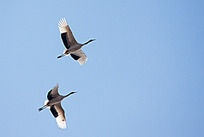bird: (55, 16, 96, 65), (37, 85, 77, 132)
